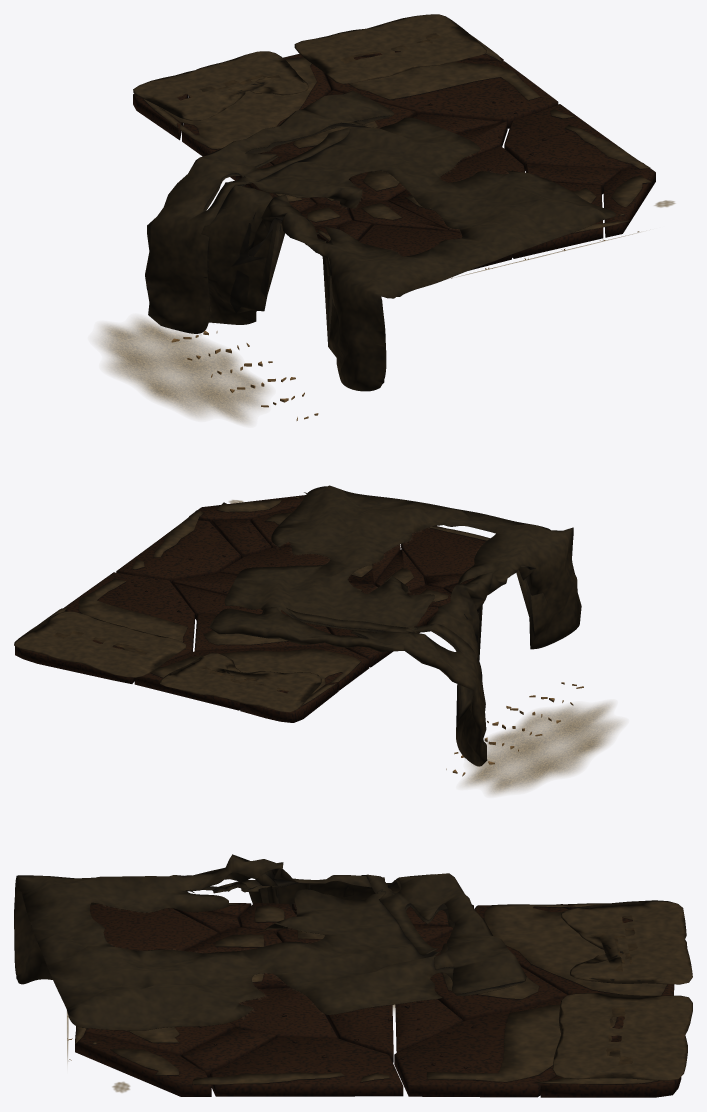
The model's file is bed_soft_aged.glb.
3 views of the same model, one above another, from view 1: azimuth 30°, elevation 25°; view 2: azimuth 150°, elevation 25°; view 3: azimuth 270°, elevation 25° (orthographic). The views are drawn at different scales.
Visible parts, largest first — view 1: Quilt, Mattress, FibreFoamPowder_Floor, Pillow_R, Pillow_L; view 2: Quilt, Mattress, FibreFoamPowder_Floor, Pillow_R, Pillow_L; view 3: Mattress, Quilt, Pillow_R, Pillow_L.
Part boxes in pixels (x1,y1,x2,y2): Quilt: (145,90,615,391); Mattress: (133,35,655,270); FibreFoamPowder_Floor: (97,318,268,423); Pillow_R: (294,14,486,83); Pillow_L: (133,51,308,120); Quilt: (209,485,581,766); Mattress: (15,492,489,722); FibreFoamPowder_Floor: (463,702,622,794); Pillow_R: (14,611,186,677); Pillow_L: (160,653,321,712); Mattress: (75,903,681,1097); Quilt: (14,854,526,1030); Pillow_R: (552,993,692,1080); Pillow_L: (561,900,692,984).
Size of the model in its own units: 2.21 by 0.6564 by 2.2.
10 materials, 9 textured.
